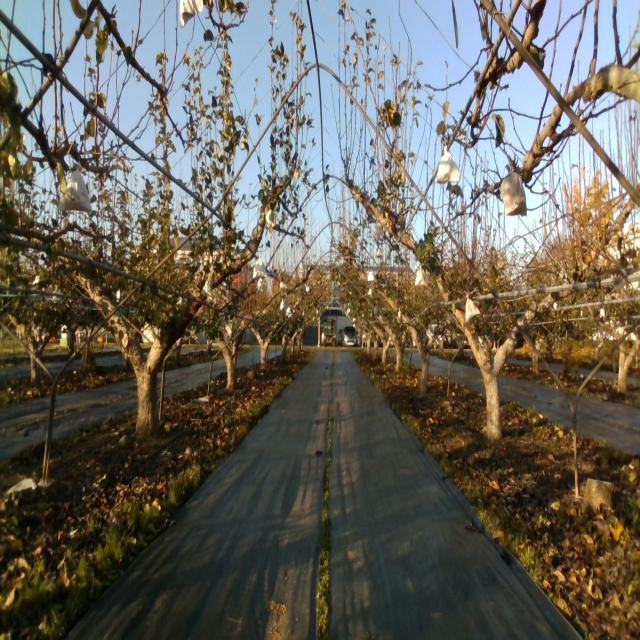pearbags: (58, 158, 94, 214), (501, 166, 527, 217), (436, 144, 461, 183), (464, 293, 480, 324), (252, 252, 268, 278), (372, 218, 386, 240), (415, 263, 428, 285), (202, 277, 214, 300), (264, 209, 274, 234)
